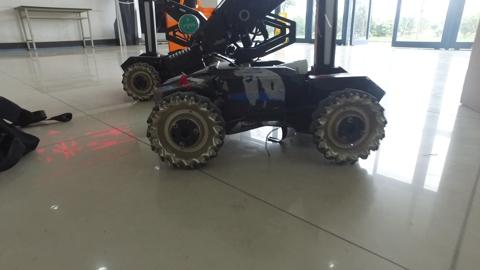chariot: (140, 1, 404, 168)
